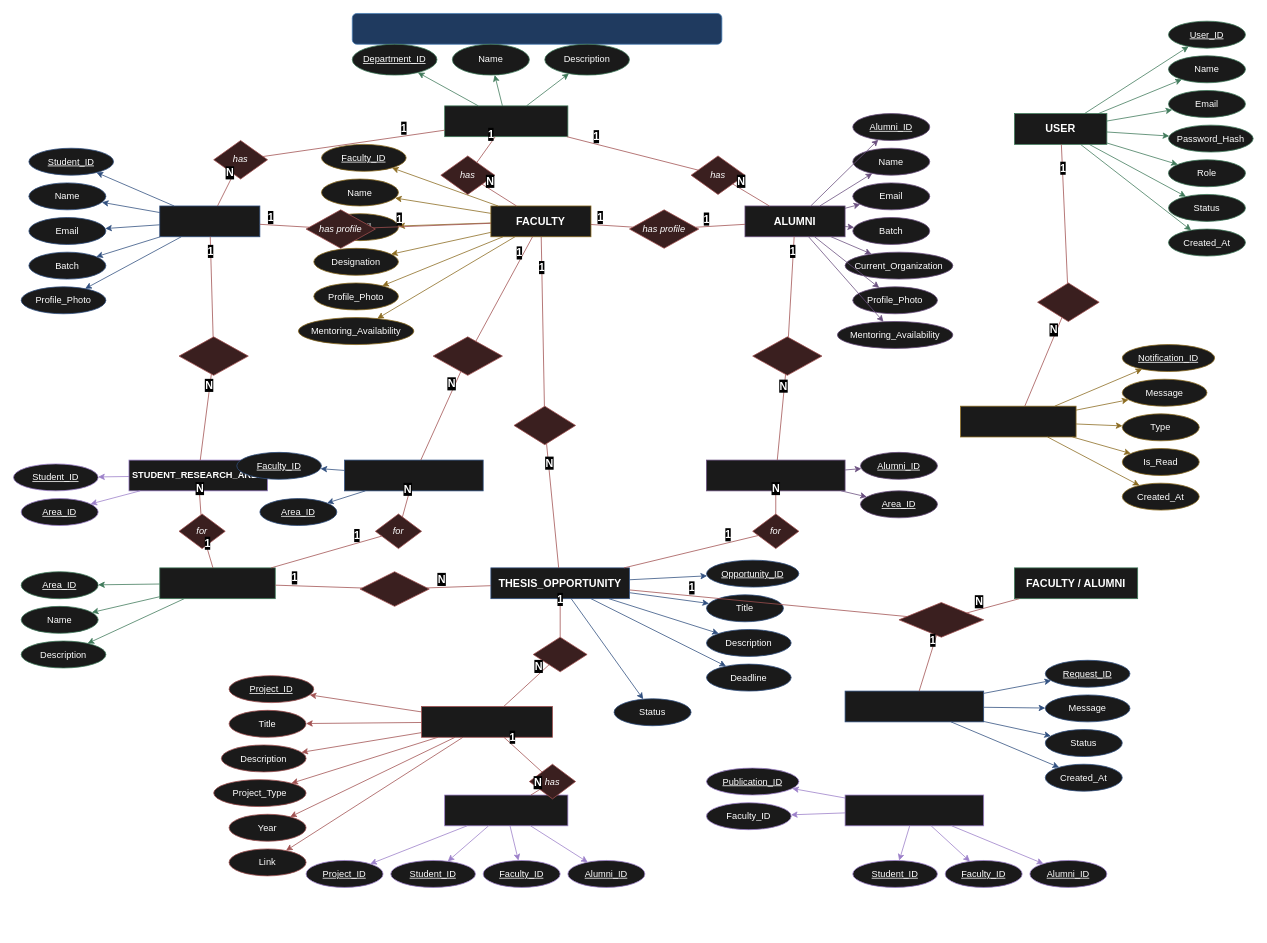
Some shapes in this 1267 by 943 pixel diagram are drawn without their labels. Here are the shapes that lost their labels. From the top down, the centre of each, then its label:
At point 537,28: "BUP Research Bridge - ER Diagram".
At point 506,121: "DEPARTMENT".
At point 209,221: "STUDENT".
At point 1068,301: "receives".
At point 213,355: "interested_in".
At point 467,355: "specializes_in".
At point 787,355: "expert_in".
At point 544,425: "creates".
At point 1018,421: "NOTIFICATION".
At point 413,475: "FACULTY_RESEARCH_AREA".
At point 775,475: "ALUMNI_RESEARCH_AREA".
At point 217,583: "RESEARCH_AREA".
At point 394,588: "categorizes".
At point 941,619: "sends_request_to".
At point 559,654: "owns".
At point 486,721: "RESEARCH_PROJECT".
At point 914,706: "MENTORSHIP_REQUEST".
At point 506,810: "PROJECT_MEMBER".
At point 914,810: "PUBLICATION_AUTHOR".
